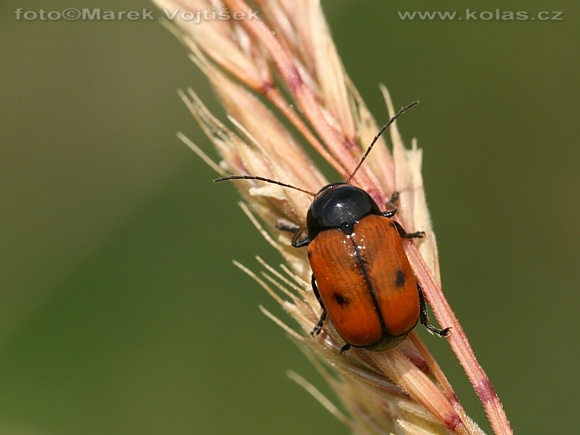Cryptocephalus_bipunctatus: (206, 97, 456, 364)
